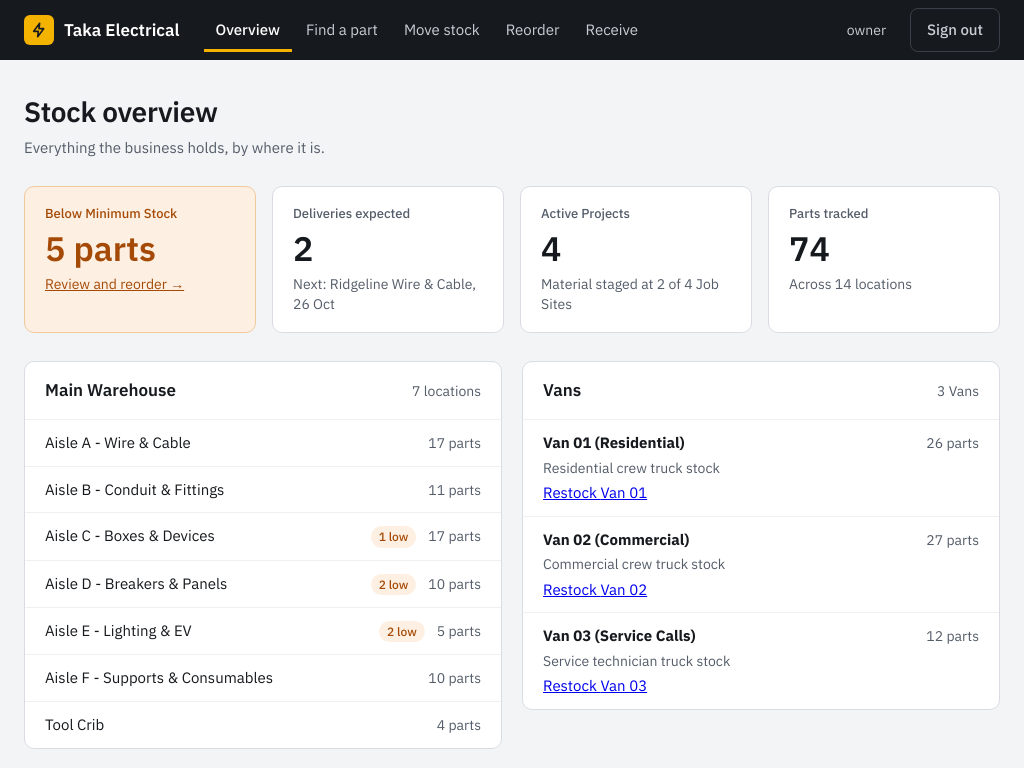
Reorder › lists every low part with in stock, Minimum Stock, On Order and a suggested quantity
The width and height of the screenshot is (1024, 768).
Click the link "Reorder".
click(533, 30)  # box [506, 20, 560, 39]
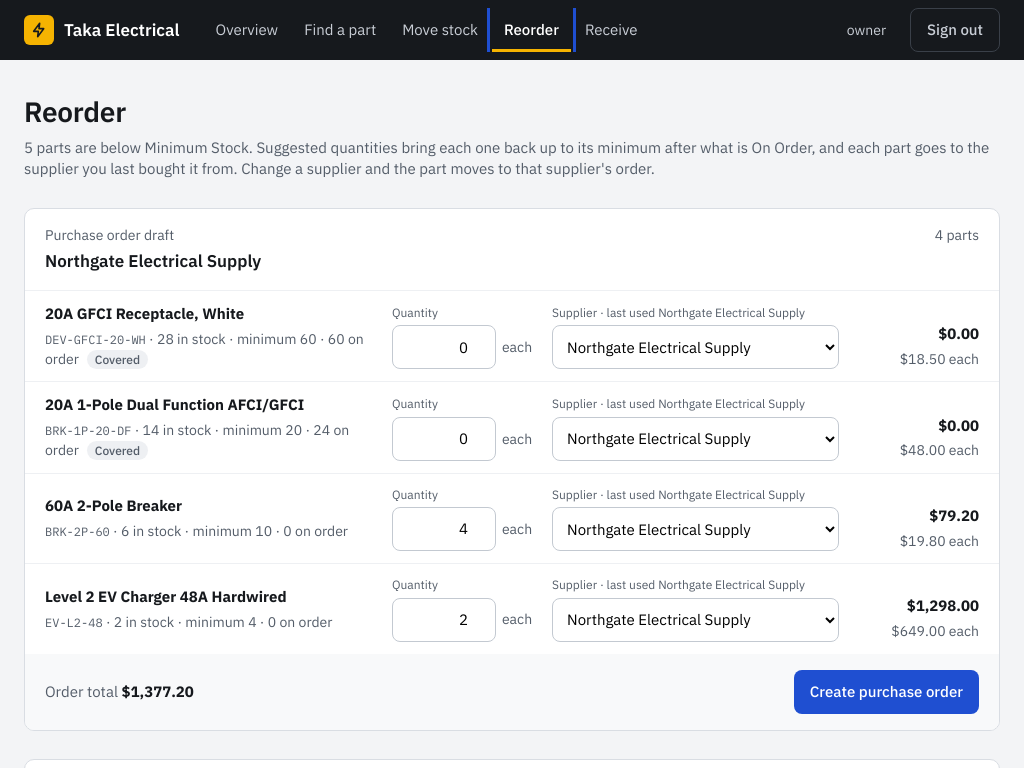
Result: the heading "Reorder" is shown at [24, 93, 126, 130]
Result: the number field labelled "Quantity" in the row of "28" holds "0" at [392, 325, 496, 369]
Result: the number field labelled "Quantity" in the row of "24" holds "0" at [392, 417, 496, 461]
